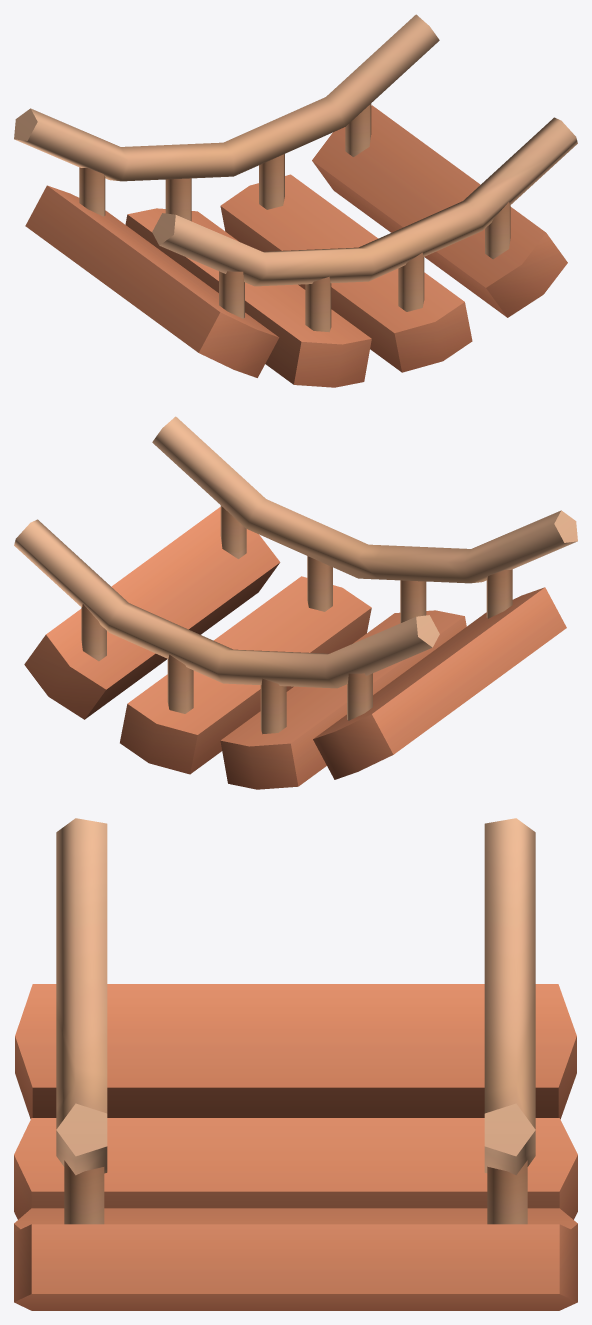
The model's file is bridge.glb.
3 views of the same model, one above another, from view 1: azimuth 30°, elevation 25°; view 2: azimuth 150°, elevation 25°; view 3: azimuth 270°, elevation 25° (orthographic). The views are drawn at different scales.
Parts seen in each view (by area): view 1: bridge; view 2: bridge; view 3: bridge.
Part boxes in pixels (left/top/right/bottom): bridge: left=14, top=14, right=577, bottom=387; bridge: left=14, top=416, right=577, bottom=789; bridge: left=14, top=818, right=577, bottom=1310.
Bounding box in the file's own units: 1.04 × 0.4729 × 0.8011.
1 material, 1 textured.
